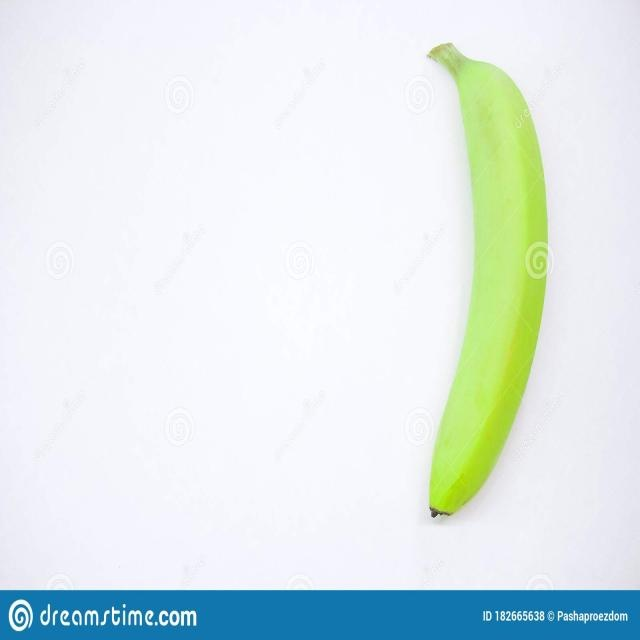agrume: (423, 38, 549, 518)
